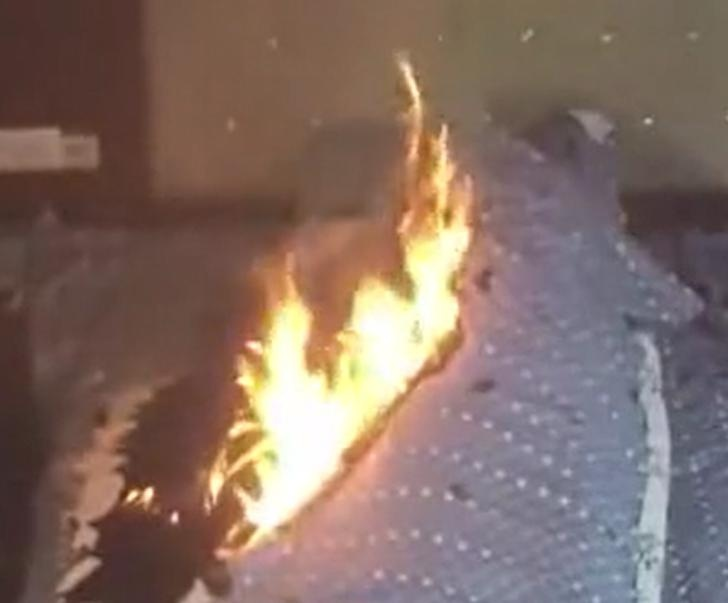fire: (119, 474, 166, 517)
